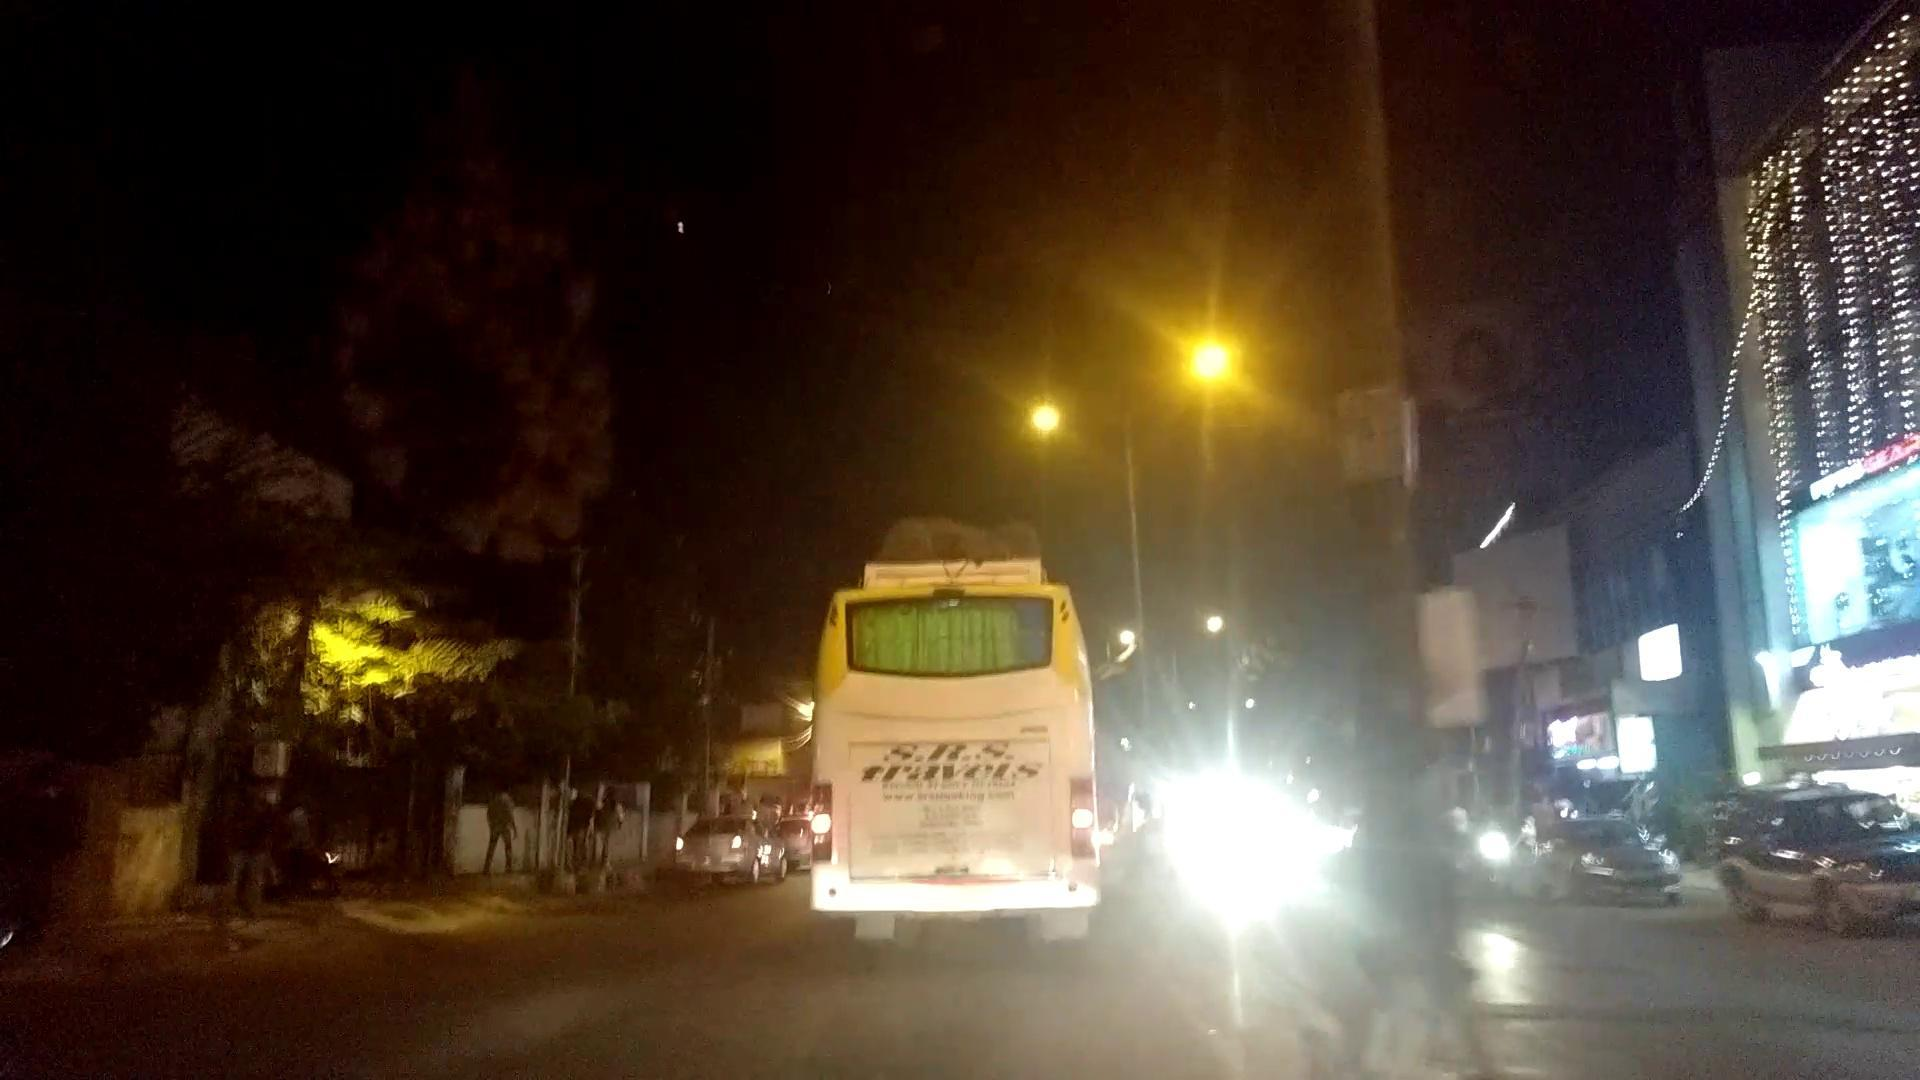on: (1010, 243, 1503, 579)
